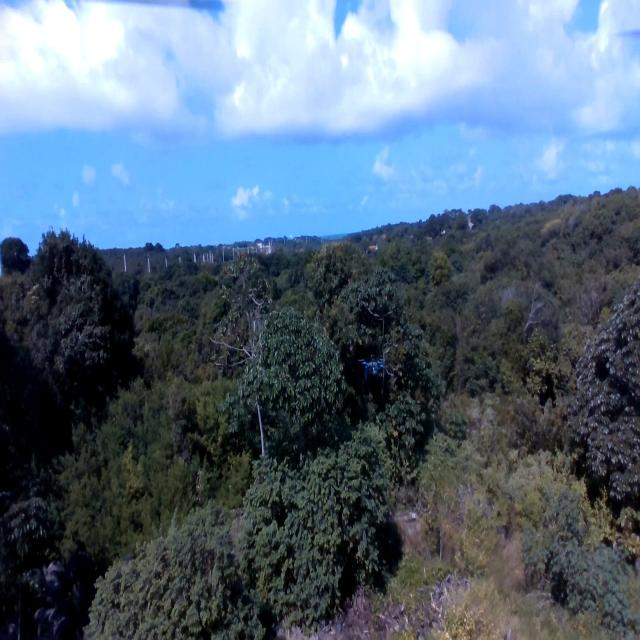-uav-: (355, 338, 393, 401)
